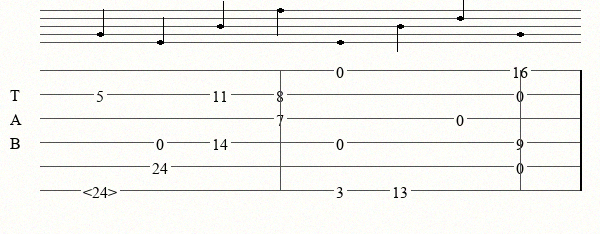0: (156, 135, 168, 150), (336, 63, 348, 78), (336, 135, 348, 150), (456, 111, 468, 126), (516, 159, 528, 174), (516, 87, 528, 102)
11: (212, 87, 232, 102)
13: (392, 183, 412, 198)
14: (212, 135, 232, 150)
16: (512, 63, 532, 78)
24: (152, 159, 172, 174)
3: (336, 183, 348, 198)
5: (96, 87, 108, 102)
7: (276, 111, 288, 126)
8: (276, 87, 288, 102)
9: (516, 135, 528, 150)
harmonic: (83, 183, 121, 198)
